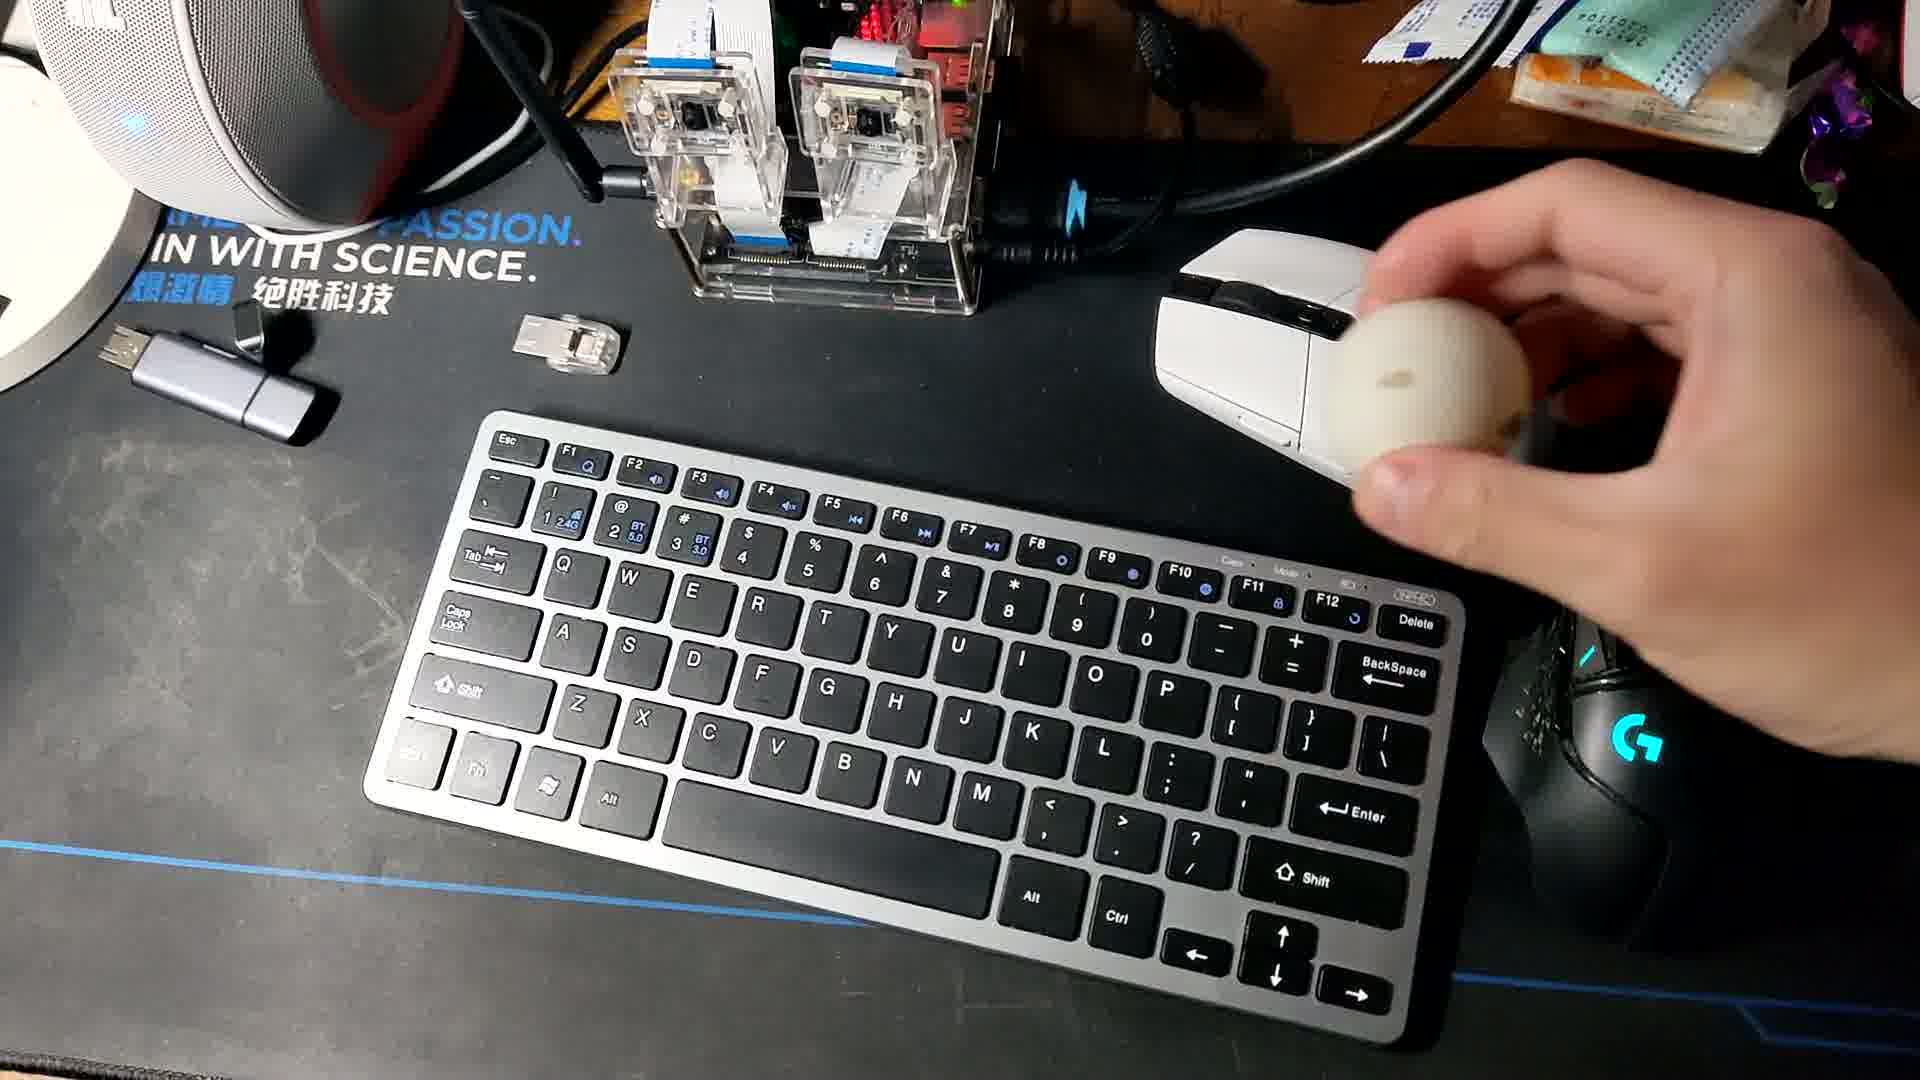Ball: (1315, 295, 1540, 505)
